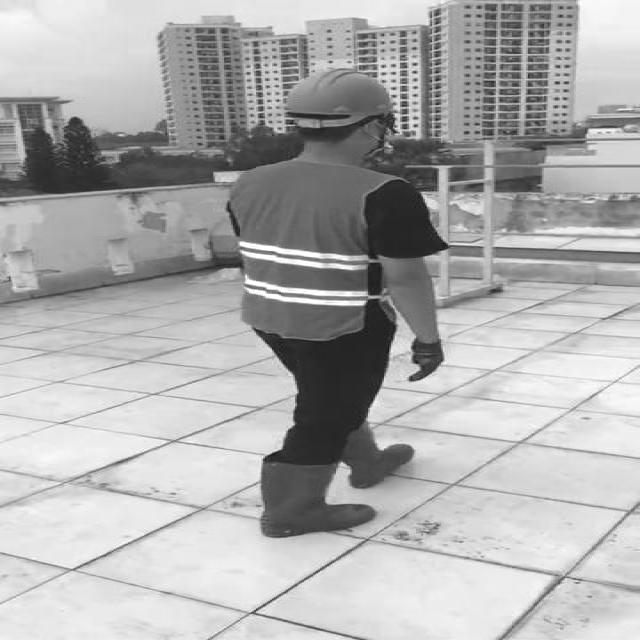boots: (260, 456, 374, 539), (340, 426, 414, 489)
hand_glove: (407, 340, 446, 380)
head_helmet: (276, 66, 402, 120)
person: (226, 49, 462, 544)
vest: (231, 158, 388, 341)
